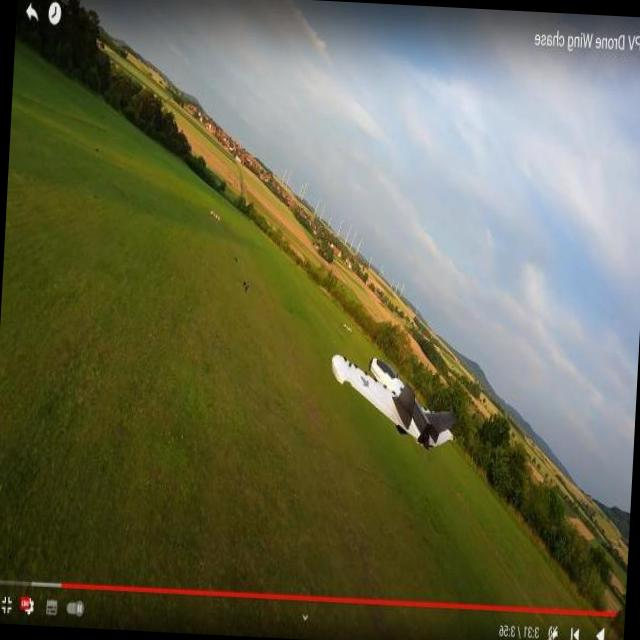UAV: (326, 354, 462, 439)
